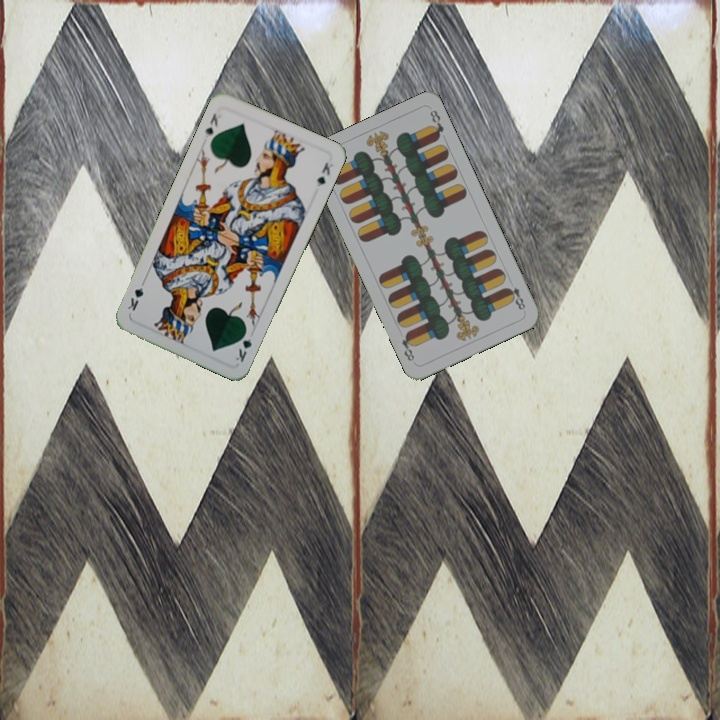E8: (502, 282, 528, 314)
GK: (231, 325, 254, 365), (201, 109, 221, 140)
